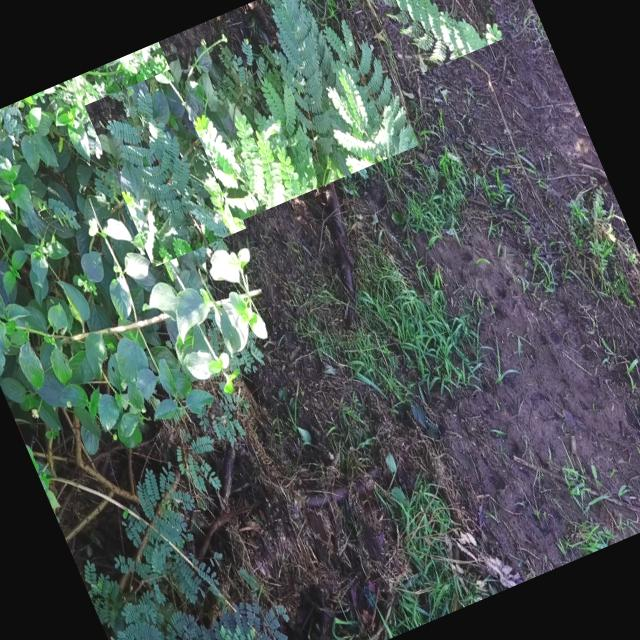Mysore-Thorn-Weed: (158, 0, 419, 222), (50, 438, 305, 640), (84, 65, 246, 268), (356, 0, 504, 79)
